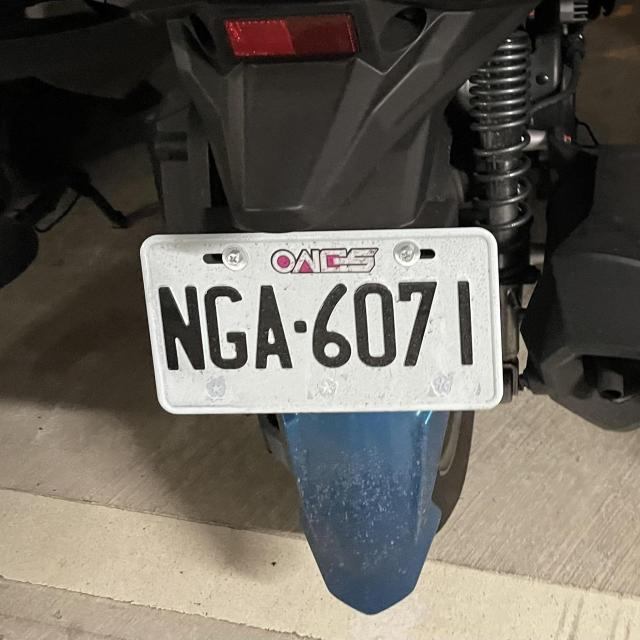W: (137, 220, 506, 422)
